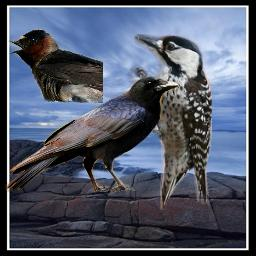Crow: (5, 74, 179, 192)
Swallow: (8, 29, 103, 104)
Woodpecker: (127, 34, 212, 210)
